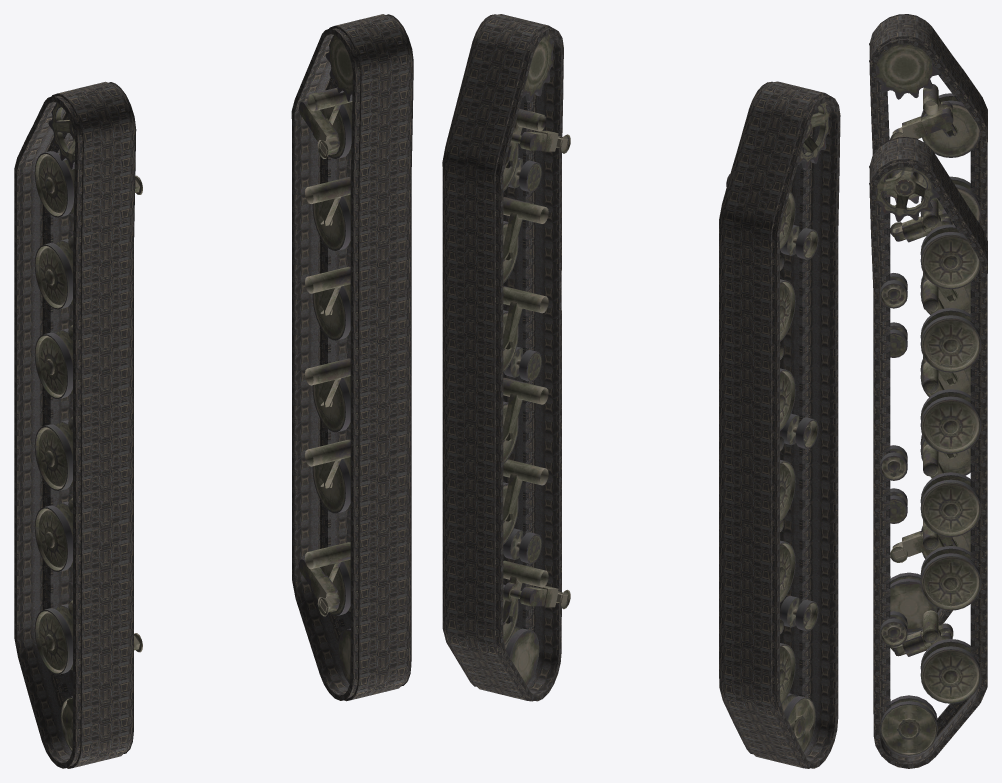
File: Chassis.glb
3 renders of one model, left to right at view 1: azimuth 30°, elevation 25°; view 2: azimuth 150°, elevation 25°; view 3: azimuth 270°, elevation 25°, orthographic. The views are drawn at different scales.
Parts seen in each view (by area): view 1: set_1_group_0, set_0_group_0, set_3_group_0, set_2_group_0; view 2: set_1_group_0, set_0_group_0, set_3_group_0, set_2_group_0; view 3: set_3_group_0, set_0_group_0, set_2_group_0, set_1_group_0.
Boxes of the visible parts, x1,y1,x2,y2 form: set_1_group_0: (14,81,136,768); set_0_group_0: (291,14,413,701); set_3_group_0: (299,15,405,683); set_2_group_0: (34,83,142,751); set_1_group_0: (719,81,840,768); set_0_group_0: (442,14,563,701); set_3_group_0: (477,14,570,685); set_2_group_0: (726,82,828,752); set_3_group_0: (869,139,981,755); set_0_group_0: (869,137,987,768); set_2_group_0: (869,17,981,632); set_1_group_0: (869,14,987,635).
Size of the model in its own units: 3.2 by 6.12 by 1.08.
Materials: 4 (4 with a texture image).
